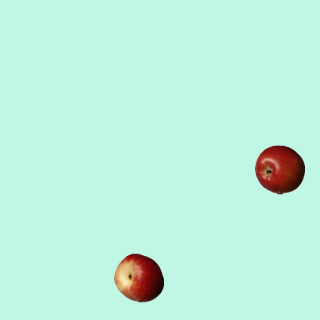Apple Braeburn: (254, 144, 304, 194)
Nectarine: (113, 252, 163, 302)
